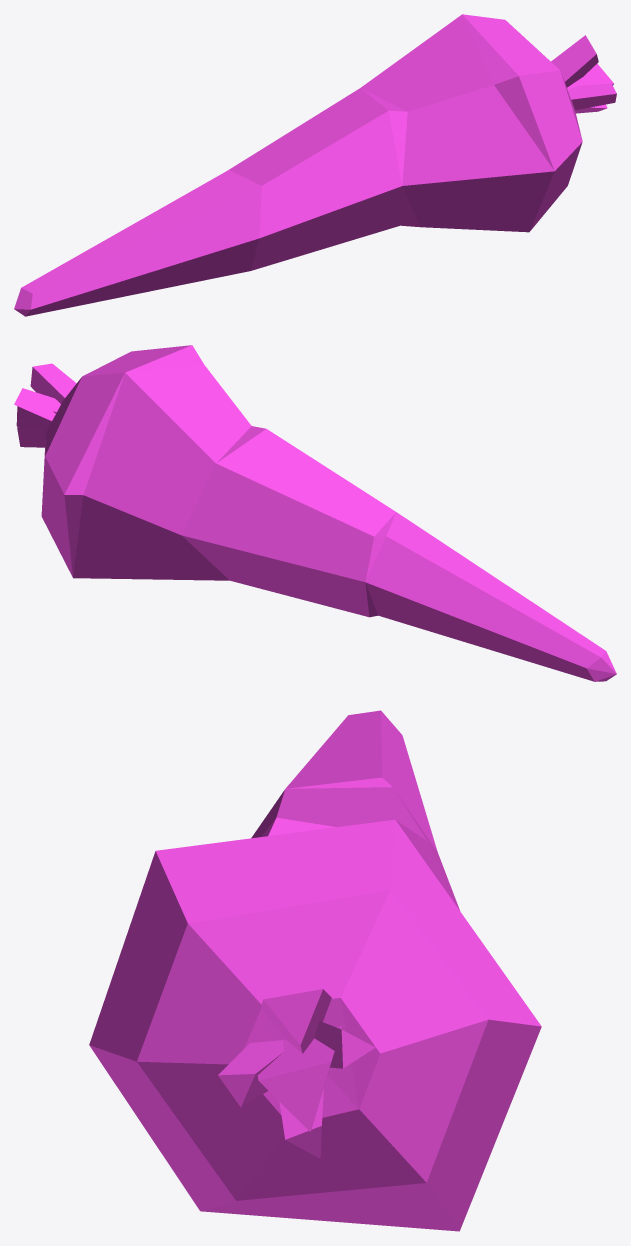
File: SM_Parsnip_A.fbx
The picture shows the model from 3 angles, top to bottom: view 1: azimuth 30°, elevation 25°; view 2: azimuth 150°, elevation 25°; view 3: azimuth 270°, elevation 25°; orthographic projection. The views are drawn at different scales.
Visible parts, largest first — view 1: SM_Parsnip_A; view 2: SM_Parsnip_A; view 3: SM_Parsnip_A.
Part boxes in pixels (left/top/right/bottom): SM_Parsnip_A: left=14, top=14, right=616, bottom=316; SM_Parsnip_A: left=14, top=345, right=616, bottom=681; SM_Parsnip_A: left=89, top=710, right=541, bottom=1231.
Bounding box in the file's own units: 0.3264 × 0.1023 × 0.1105.
